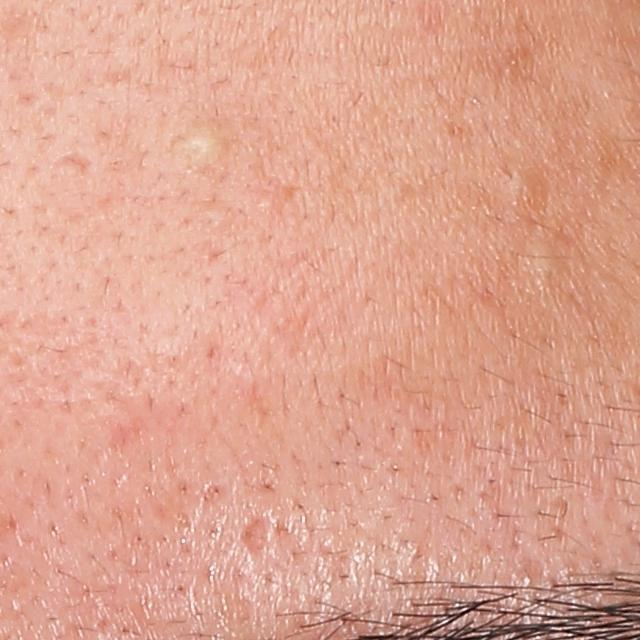atrophic_scar: (235, 511, 273, 573), (49, 148, 96, 175)
comedo: (171, 124, 229, 174), (526, 244, 570, 279)
